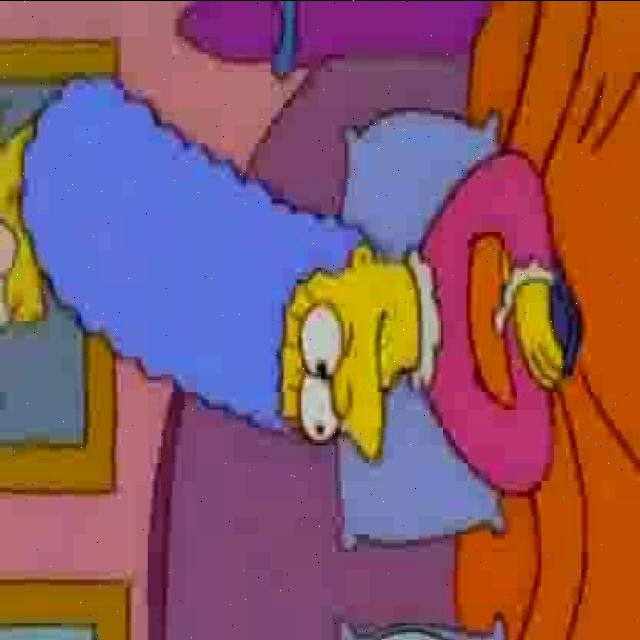Marge Simpson: (19, 78, 433, 464)
